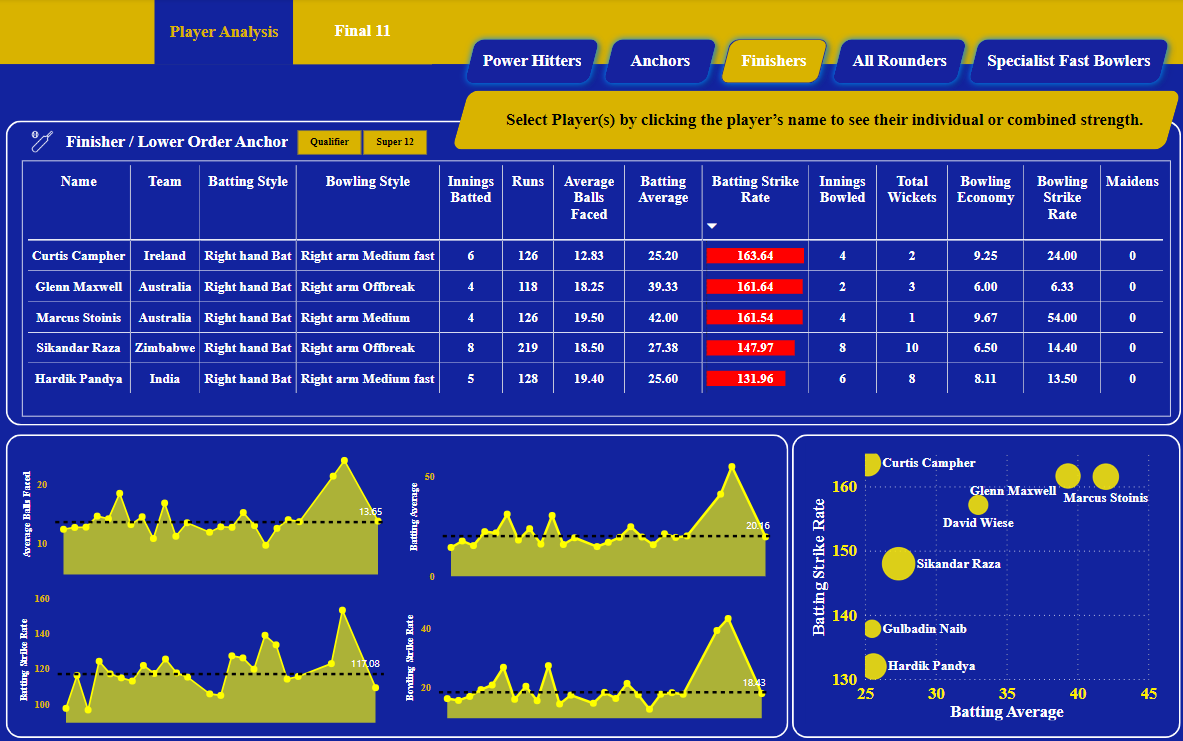

What the dashboard file says about the page in this screenshot:
{"tool":"powerbi","page":{"name":"New Finisher / Lower Order Anchor","canvas":[1435,900],"ordinal":2},"visuals":[{"type":"shape","box":[0,79.9,1435.3,820.2],"z":0},{"type":"shape","box":[81.2,157.9,271.4,30.2],"z":0,"group":"g1"},{"type":"shape","box":[10.6,147.8,1417.2,367.9],"z":1000},{"type":"image","box":[30.2,155.3,48.6,36],"z":1000,"group":"g1"},{"type":"shape","box":[548.8,111.6,879,70.9],"z":2000},{"type":"shape","box":[958.9,526.2,468.9,366.4],"z":3000},{"type":"tableEx","fields":{"Values":["dim_players.Name","dim_players.Team","dim_players.Batting Style","dim_players.Bowling Style","Measure.Total Innings Batted","Measure.Total Runs","Measure.Average Balls Faced","Measure.Batting Average","Measure.Strike Rate","Measure.Total Innings Bowled","Measure.Total Wickets","Measure.Bowling Economy"]},"box":[30.2,196,1385.6,309],"z":4000},{"type":"card","fields":{"Values":["Measure.Average Balls Faced"]},"box":[815.7,111.6,138.7,70.9],"z":5000},{"type":"slicer","fields":{"Values":["dim_match_summary.Stage"]},"box":[336.2,152.3,206.6,43.7],"z":6000},{"type":"scatterChart","fields":{"Category":["dim_players.Name"],"X":["Measure.Batting Average"],"Size":["Measure.Total Runs"],"Y":["Measure.Batting Strike Rate"]},"box":[975.5,536.7,428.2,339.2],"z":7000},{"type":"card","fields":{"Values":["Measure.Strike Rate"]},"box":[1117.2,111.6,123.6,70.9],"z":8000},{"type":"card","fields":{"Values":["Measure.Bowling Strike Rate"]},"box":[1260.4,111.6,143.2,70.9],"z":9000},{"type":"card","fields":{"Values":["Measure.Batting Average"]},"box":[975.5,111.6,125.1,70.9],"z":10000},{"type":"actionButton","box":[554.8,40.7,180.9,70.9],"z":11000},{"type":"actionButton","box":[722.2,40.7,155.3,70.9],"z":12000},{"type":"actionButton","box":[1162.4,40.7,260.8,70.9],"z":13000},{"type":"actionButton","box":[998.1,40.7,180.9,70.9],"z":14000},{"type":"actionButton","box":[862.4,40.7,149.3,70.9],"z":15000},{"type":"shape","box":[10.6,526.2,943.8,366.4],"z":16000},{"type":"areaChart","fields":{"Y":["Measure.Batting Average"],"Category":["dim_match_summary.Match Date"]},"box":[493,539.7,449.3,170.4],"z":17000},{"type":"areaChart","fields":{"Y":["Measure.Average Balls Faced"],"Category":["dim_match_summary.Match Date"]},"box":[25.6,536.7,449.3,170.4],"z":18000},{"type":"actionButton","box":[190,1.5,167.4,78.4],"z":19000},{"type":"actionButton","box":[357.3,0,167.4,79.9],"z":20000},{"type":"shape","box":[585,125.1,215.6,43.7],"z":21000},{"type":"shape","box":[612.1,125.1,771.9,43.7],"z":22000},{"type":"areaChart","fields":{"Y":["Measure.Batting Strike Rate"],"Category":["dim_match_summary.Match Date"]},"box":[22.6,710.1,449.3,168.9],"z":23000},{"type":"group","id":"g1","title":"Group 2","box":[30.2,155.3,322.4,36],"z":24000},{"type":"areaChart","fields":{"Y":["Measure.Bowling Strike Rate"],"Category":["dim_match_summary.Match Date"]},"box":[488.5,710.1,449.3,170.4],"z":25000}]}

Visuals, with their boxes in screenshot pixels (x1, y1, x2, y2), scaled from the page's 1435x900 canvas onto the 1183x741 screenshot:
shape: crop(0, 66, 1182, 740)
shape: crop(67, 130, 291, 155)
shape: crop(9, 122, 1177, 425)
image: crop(25, 128, 65, 158)
shape: crop(452, 92, 1177, 150)
shape: crop(791, 433, 1177, 735)
tableEx - dim_players.Name x dim_players.Team: crop(25, 161, 1167, 416)
card - Measure.Average Balls Faced: crop(672, 92, 787, 150)
slicer - dim_match_summary.Stage: crop(277, 125, 447, 161)
scatterChart - dim_players.Name x Measure.Batting Average: crop(804, 442, 1157, 721)
card - Measure.Strike Rate: crop(921, 92, 1023, 150)
card - Measure.Bowling Strike Rate: crop(1039, 92, 1157, 150)
card - Measure.Batting Average: crop(804, 92, 907, 150)
actionButton: crop(457, 34, 607, 92)
actionButton: crop(595, 34, 723, 92)
actionButton: crop(958, 34, 1173, 92)
actionButton: crop(823, 34, 972, 92)
actionButton: crop(711, 34, 834, 92)
shape: crop(9, 433, 787, 735)
areaChart - Measure.Batting Average x dim_match_summary.Match Date: crop(406, 444, 777, 585)
areaChart - Measure.Average Balls Faced x dim_match_summary.Match Date: crop(21, 442, 392, 582)
actionButton: crop(157, 1, 295, 66)
actionButton: crop(295, 0, 433, 66)
shape: crop(482, 103, 660, 139)
shape: crop(505, 103, 1141, 139)
areaChart - Measure.Batting Strike Rate x dim_match_summary.Match Date: crop(19, 585, 389, 724)
"Group 2" group: crop(25, 128, 291, 158)
areaChart - Measure.Bowling Strike Rate x dim_match_summary.Match Date: crop(403, 585, 773, 725)
